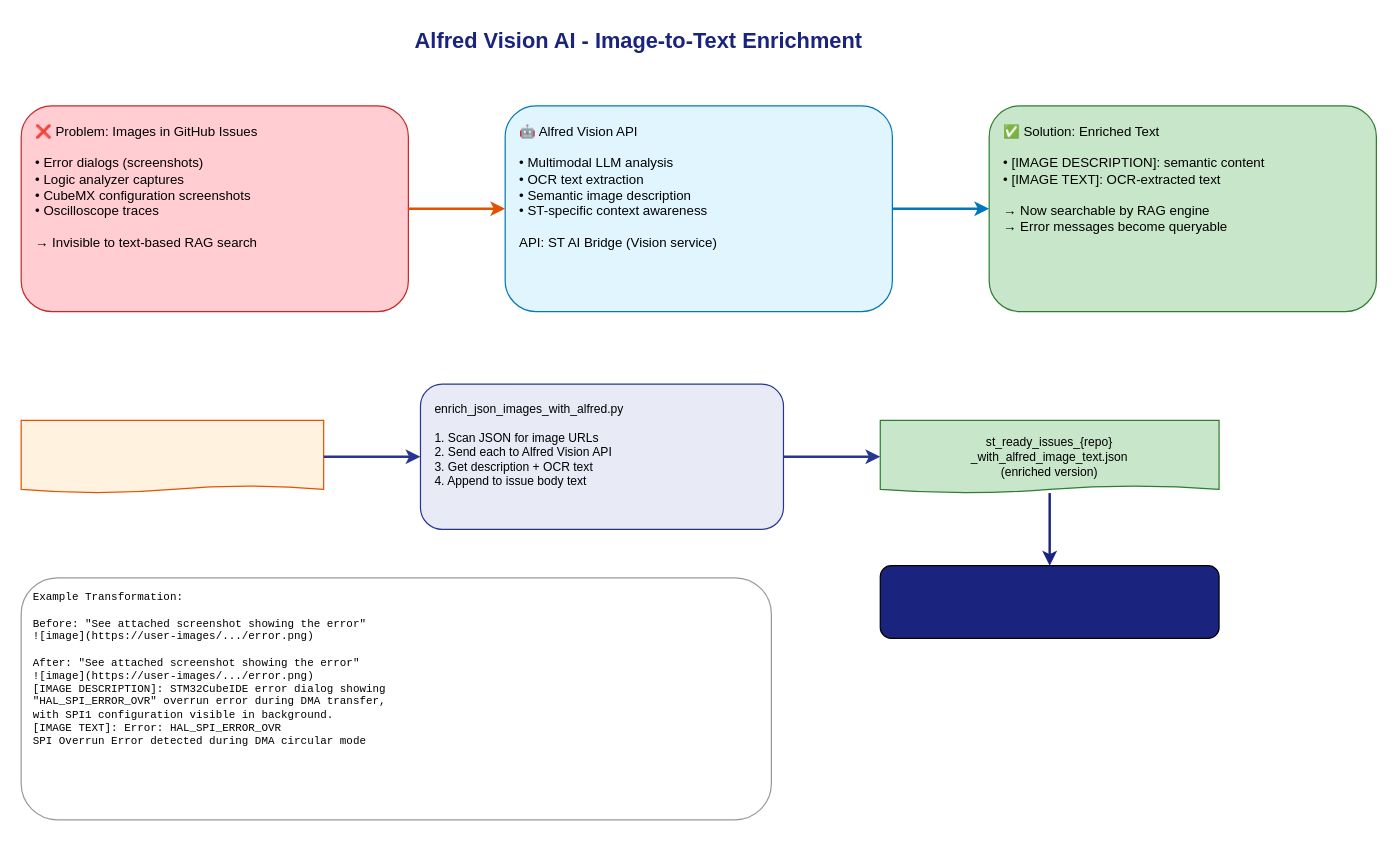
Image size: 1398x841. Some labels were removed from this diagram. Here are the shapes that lost their labels. From the top down, the box of each, then its label:
(20, 419, 324, 493): st_ready_issues_{repo}.json (contains image URLs)
(879, 564, 1219, 638): Upload to KB (replaces original issues datasource)
